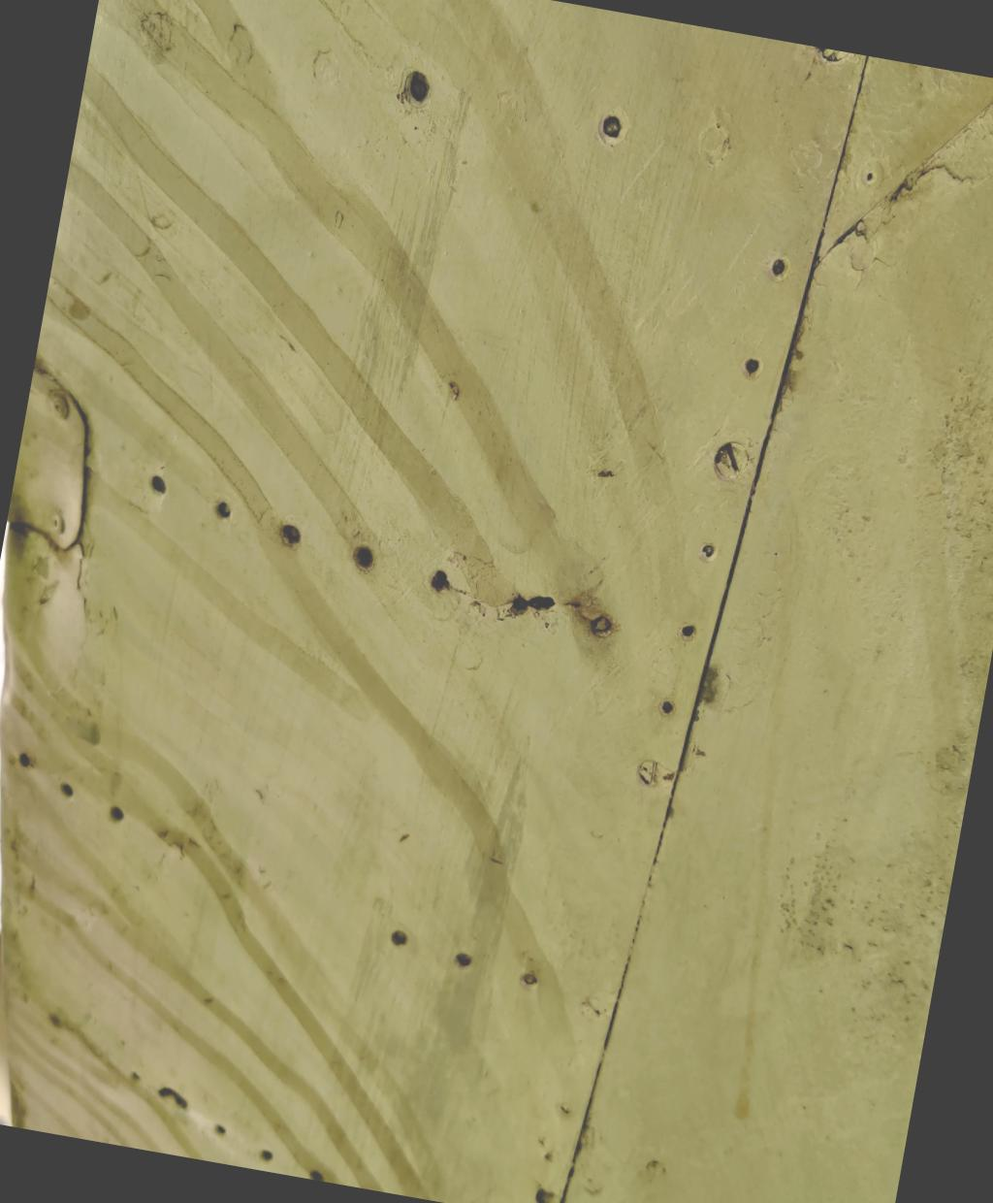crack: (478, 555, 573, 653), (142, 1066, 208, 1135)
